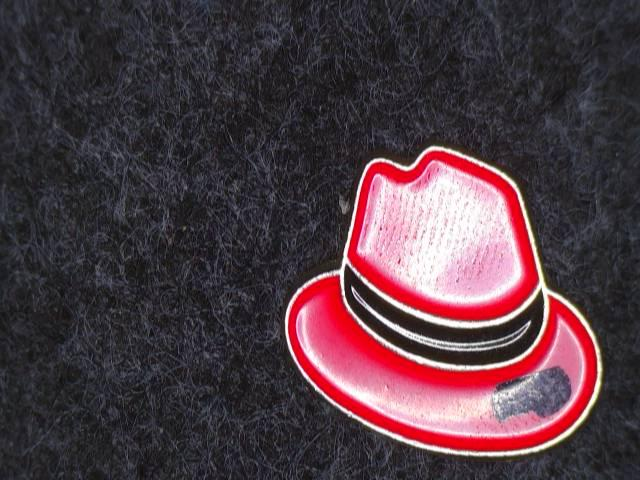Red-Hat: (245, 107, 615, 468)
Scratch: (475, 364, 597, 441)
